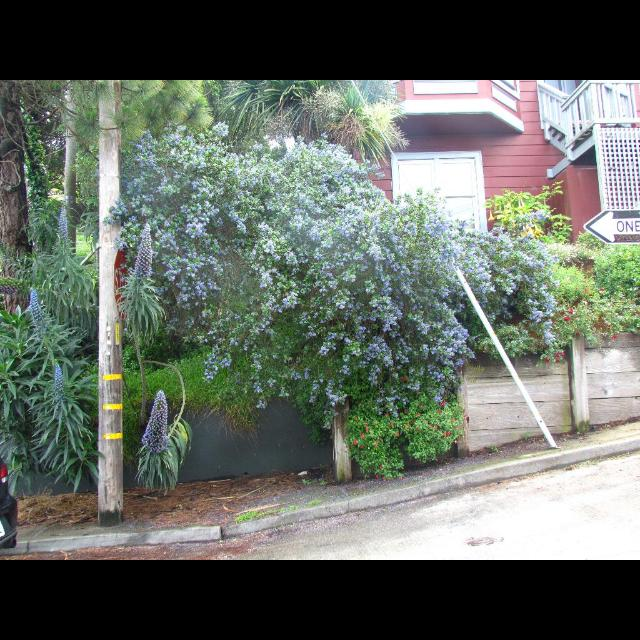Flower: (104, 121, 618, 479), (55, 360, 67, 400), (30, 290, 42, 324), (58, 207, 68, 240), (268, 376, 278, 386)
